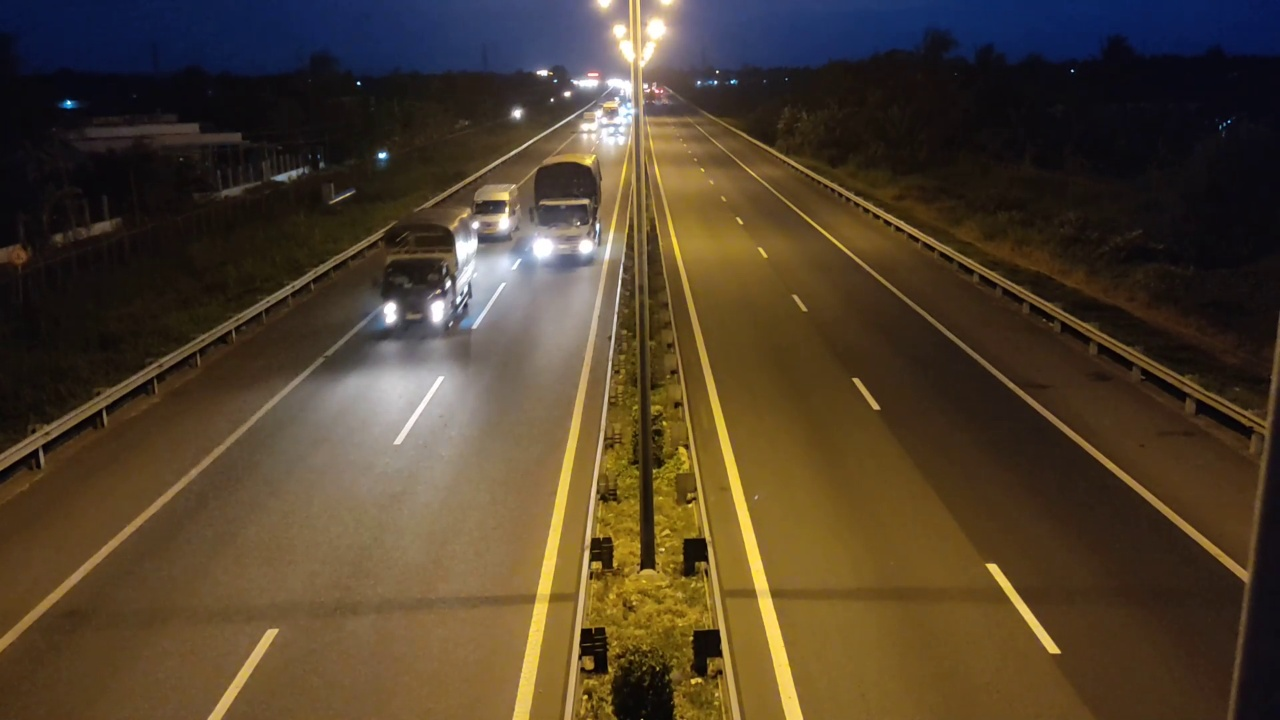truck: (374, 203, 477, 342), (528, 149, 605, 267)
